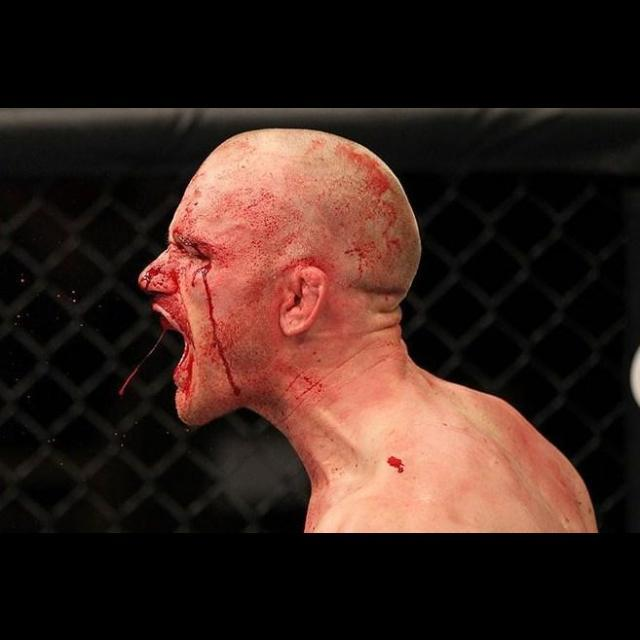blood: (118, 130, 421, 533), (388, 457, 403, 473)
